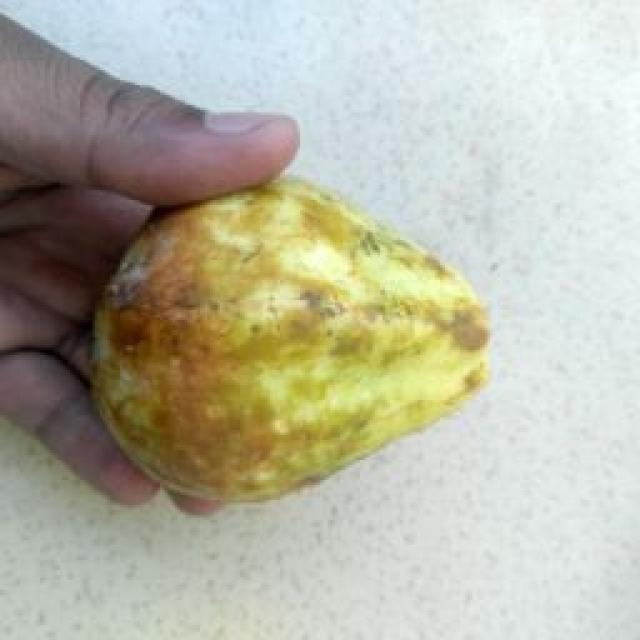Bad_Guava: (94, 178, 488, 499)
